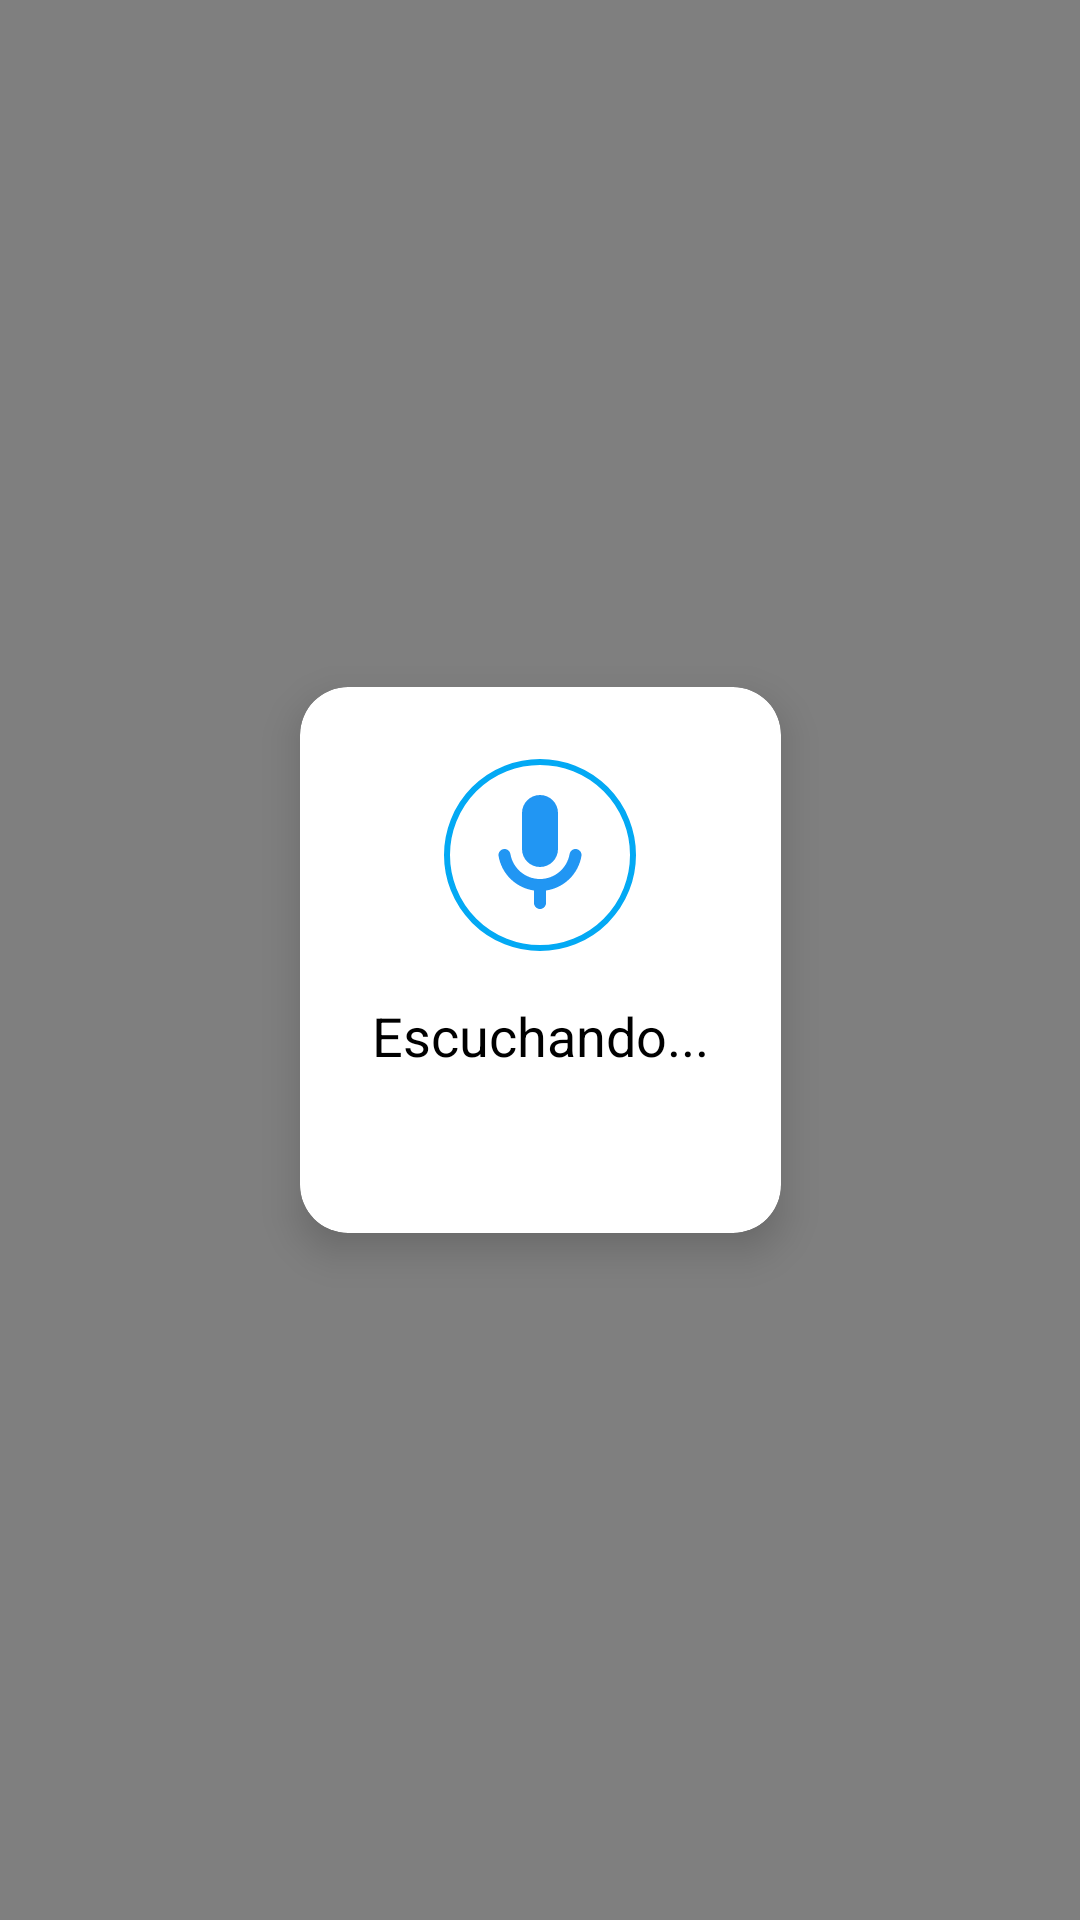

Icon click points for this 1080x1920 phone screenshot, format (x=x, y=y):
mic: (x=540, y=855)
